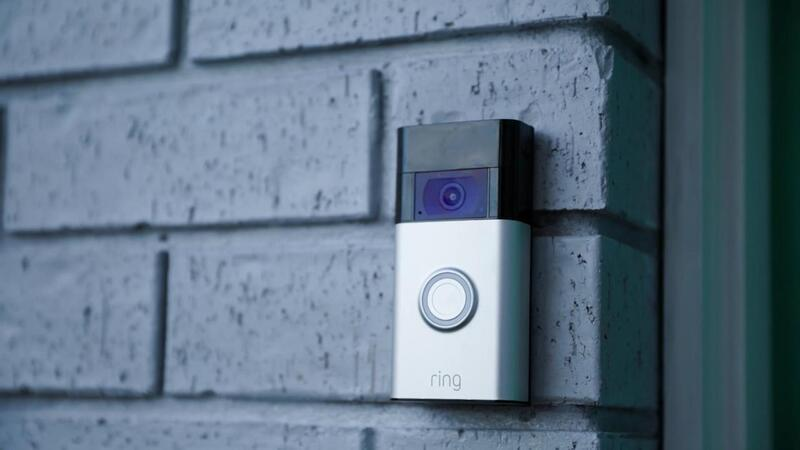doorbell: (384, 110, 534, 410)
